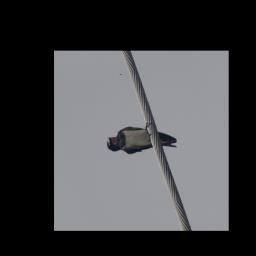Swallow: (104, 112, 180, 171)
